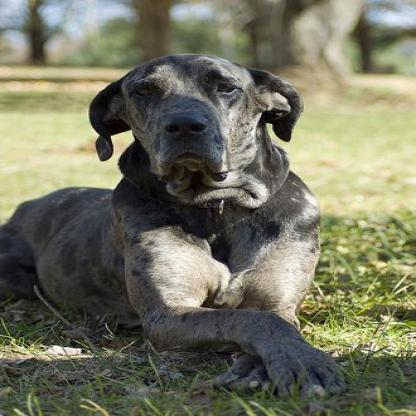Great_Dane: (0, 51, 361, 401)
